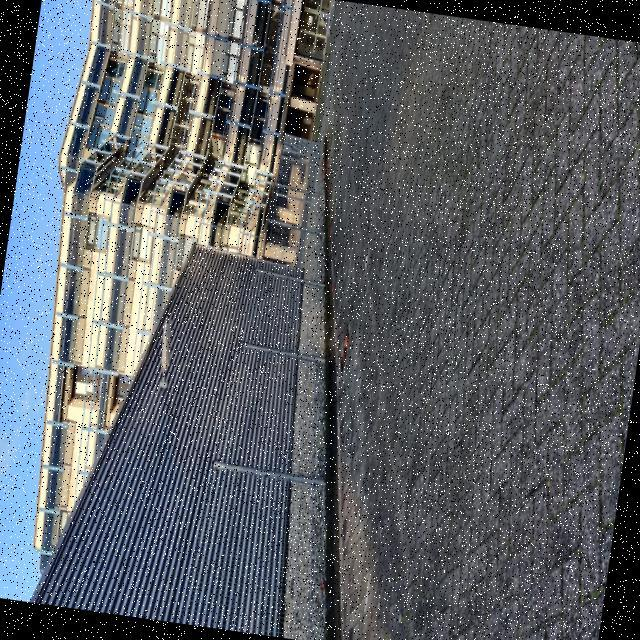fence line: (181, 269, 361, 635), (259, 124, 341, 310)
